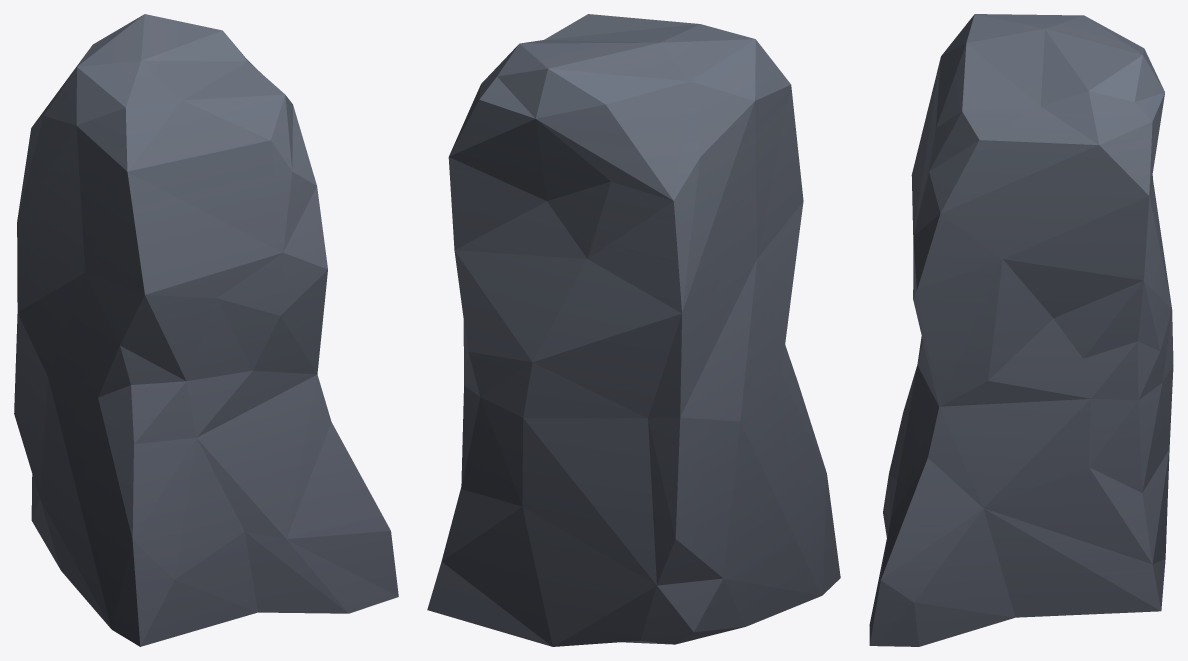
The model's file is BigRock_01.fbx.
The picture shows the model from 3 angles, left to right: view 1: azimuth 30°, elevation 25°; view 2: azimuth 150°, elevation 25°; view 3: azimuth 270°, elevation 25°; orthographic projection. The views are drawn at different scales.
Parts seen in each view (by area): view 1: BigRock_01; view 2: BigRock_01; view 3: BigRock_01.
Part boxes in pixels (x1=…): BigRock_01: x1=14, y1=14, x2=398, y2=646; BigRock_01: x1=427, y1=14, x2=840, y2=646; BigRock_01: x1=869, y1=14, x2=1173, y2=646.
Size of the model in its own units: 160 by 306 by 158.
